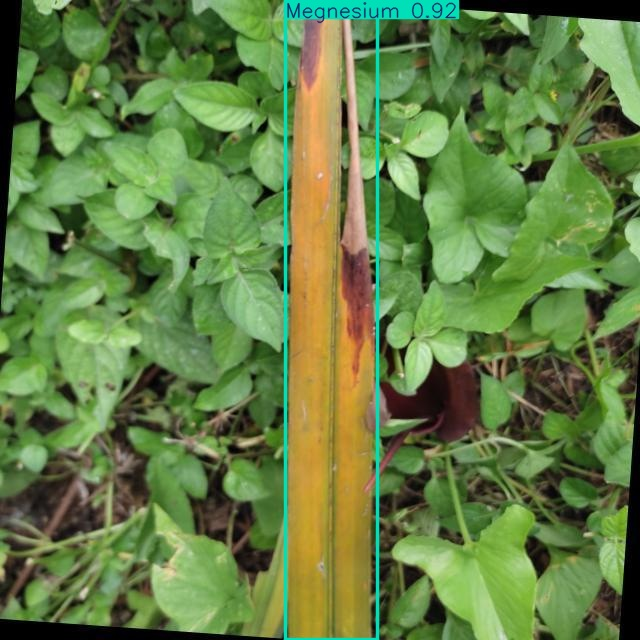Megnesium: (286, 0, 378, 640)
